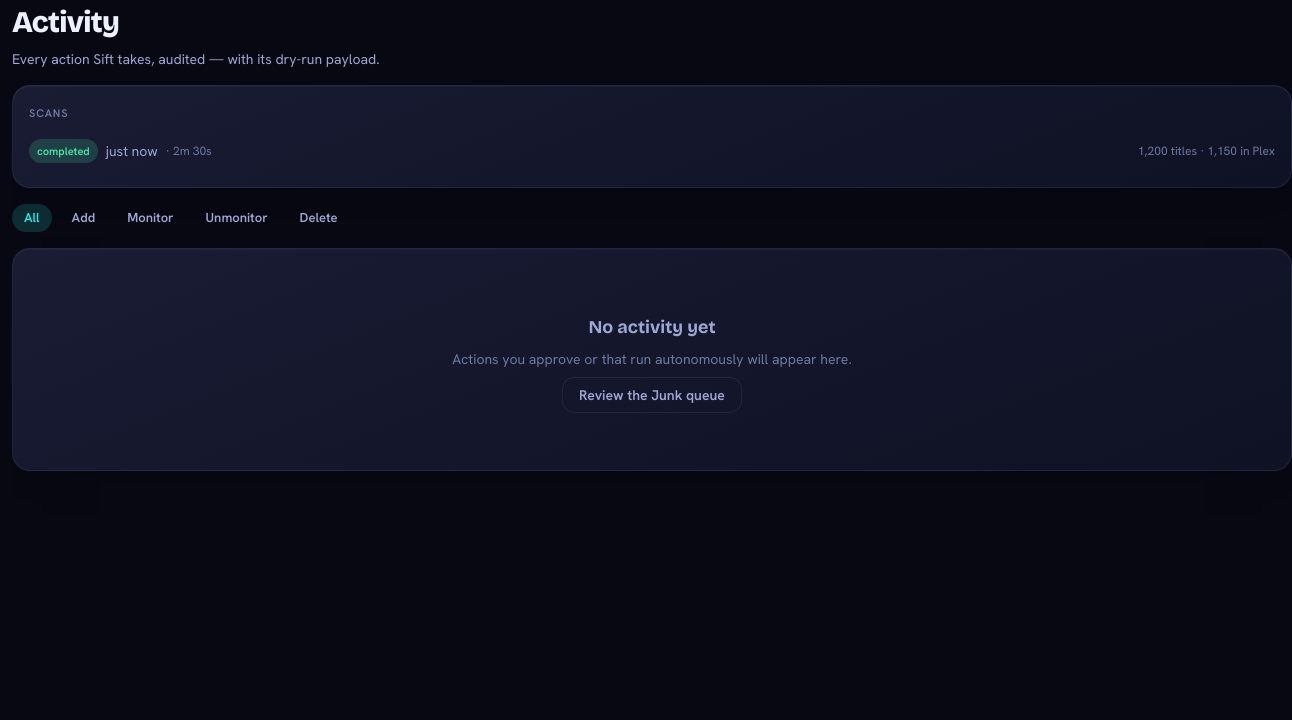
Test: the scan panel › keeps the phase detail folded away until it is asked for
The image size is (1292, 720).
Click the button "completed just now · 2m 30s 1,200 titles · 1,150 in Plex" at (63, 151), box [29, 139, 1275, 163]
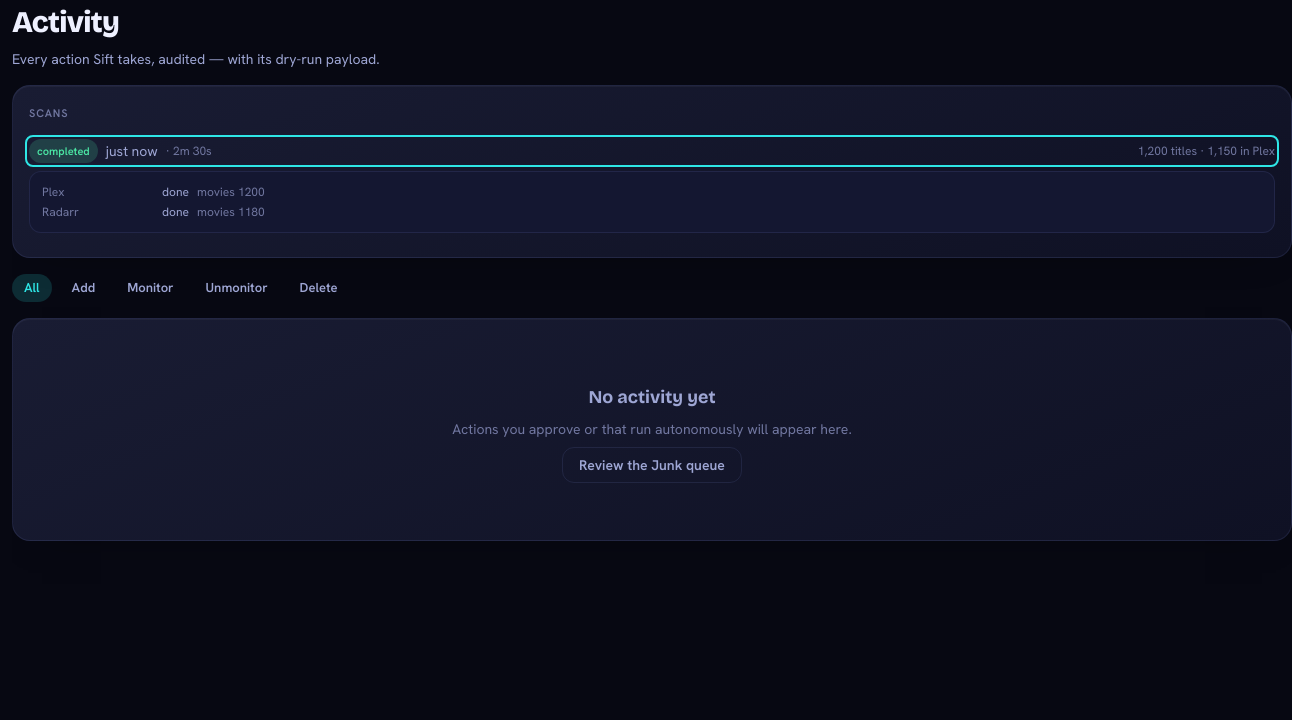
Result: the text "plex" is shown at [42, 184, 64, 200]
Result: the text "movies 1200" is shown at [197, 184, 265, 200]
